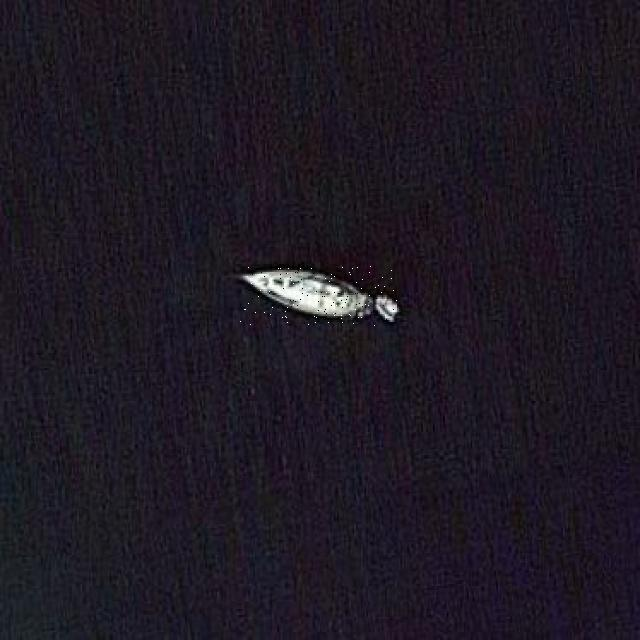boat: (240, 266, 397, 328)
